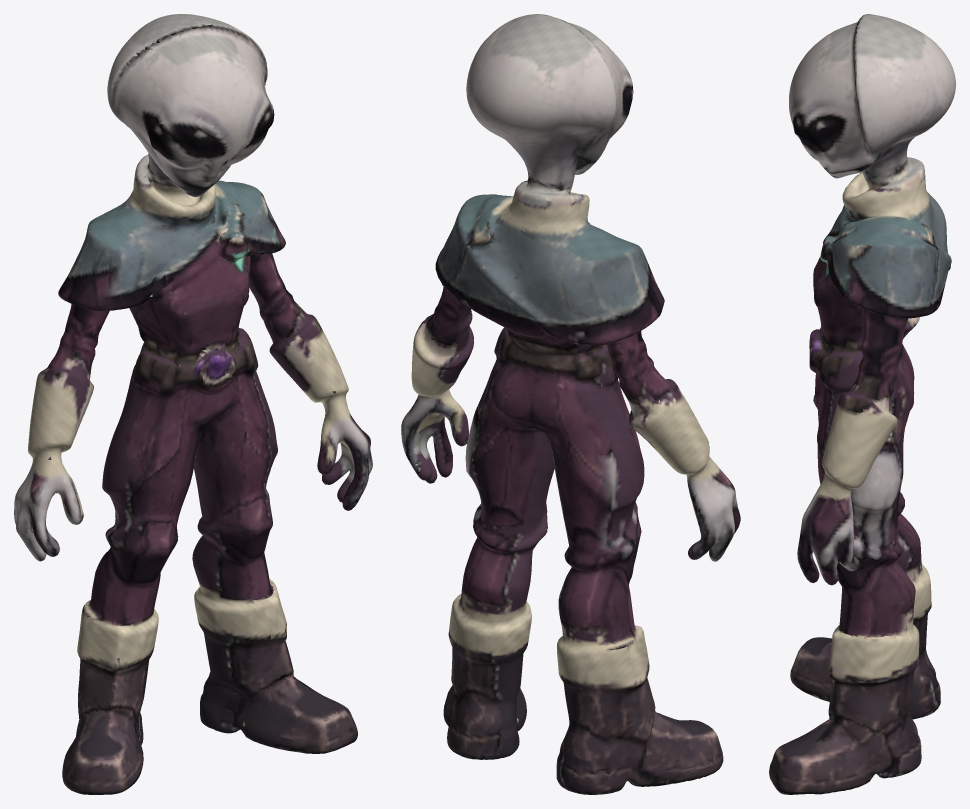
Rendered from paint-review.glb.
3 views of the same model, side by side, from view 1: azimuth 30°, elevation 25°; view 2: azimuth 150°, elevation 25°; view 3: azimuth 270°, elevation 25° (orthographic). The views are drawn at different scales.
Visible parts, largest first — view 1: Vey_Painted; view 2: Vey_Painted; view 3: Vey_Painted.
Boxes of the visible parts, left/top/right/bottom form: Vey_Painted: left=14, top=14, right=372, bottom=794; Vey_Painted: left=401, top=14, right=740, bottom=794; Vey_Painted: left=769, top=14, right=955, bottom=794.
Bounding box in the file's own units: 0.9849 × 2 × 0.4749.
1 material, 1 textured.
